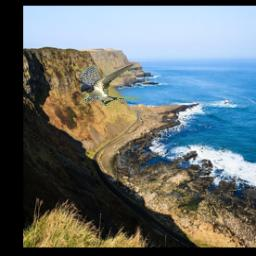Swallow: (80, 62, 140, 106)
